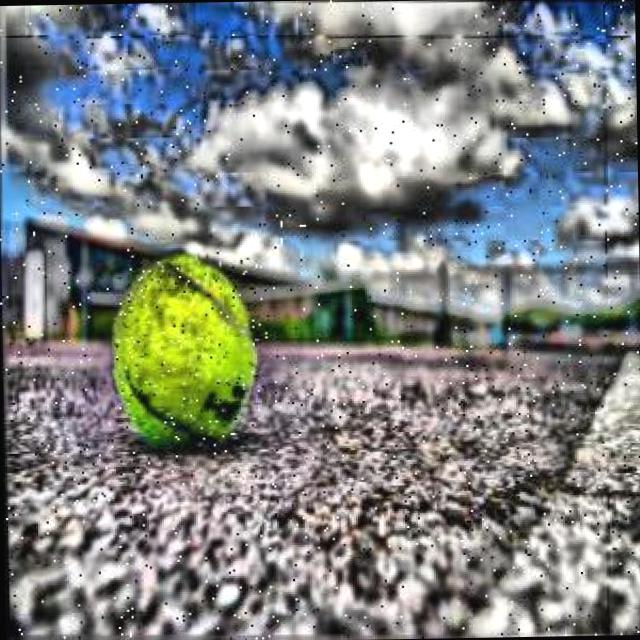Tennis Ball: (108, 247, 263, 450)
